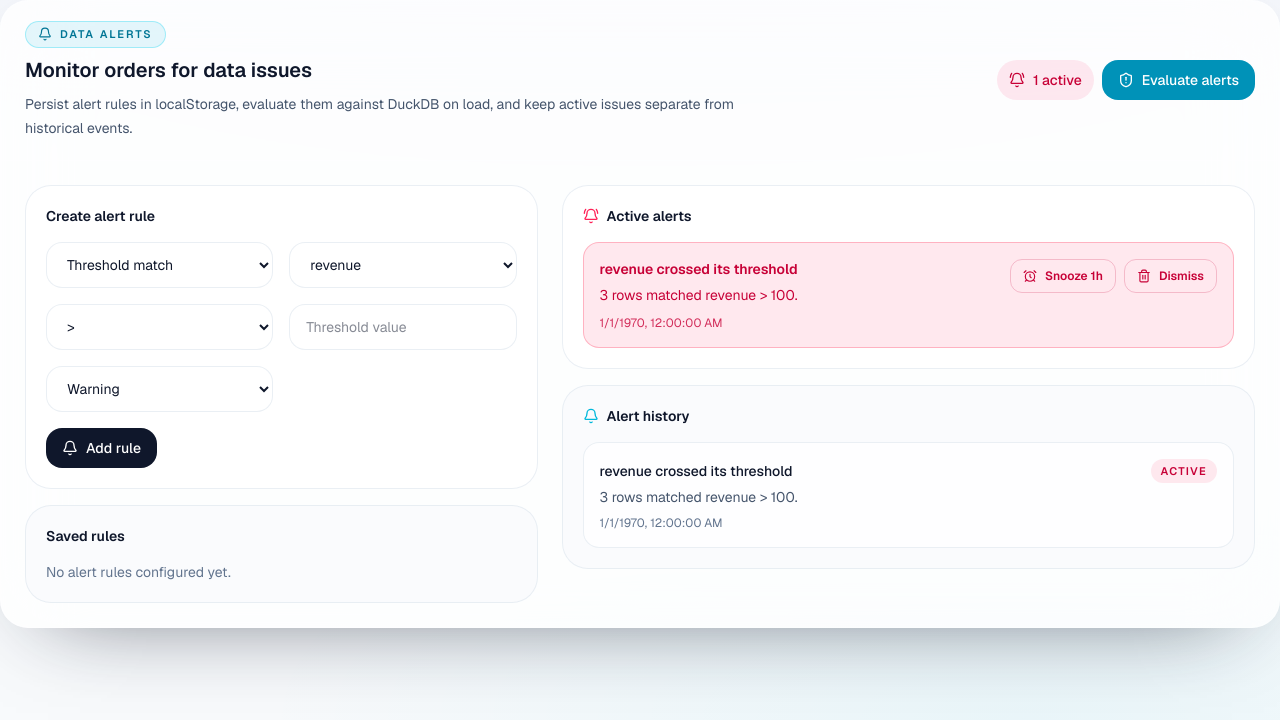
Test: DataAlerts › dismisses an active alert
Step 1. Click the button "Dismiss" → (1170, 276), box [1124, 258, 1217, 292]
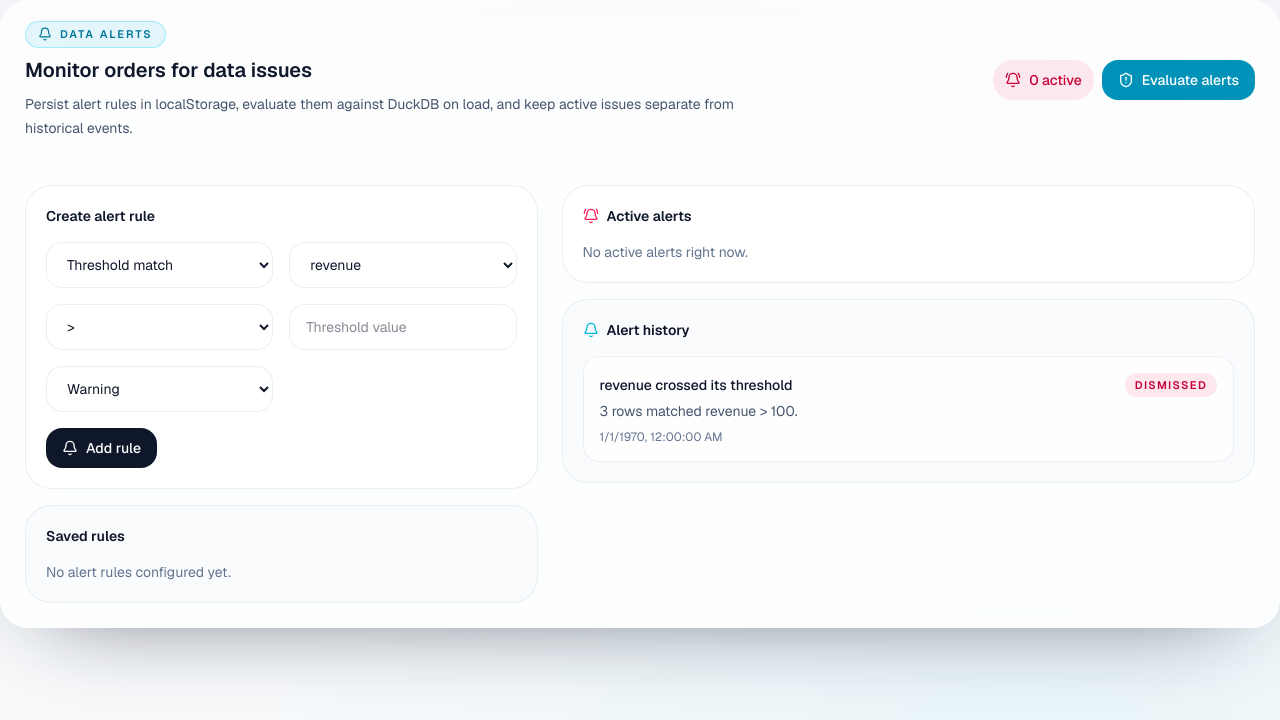
Now the text "No active alerts right now." is shown, box [582, 242, 748, 260]
Now the text "dismissed" is shown, box [1125, 372, 1217, 397]
